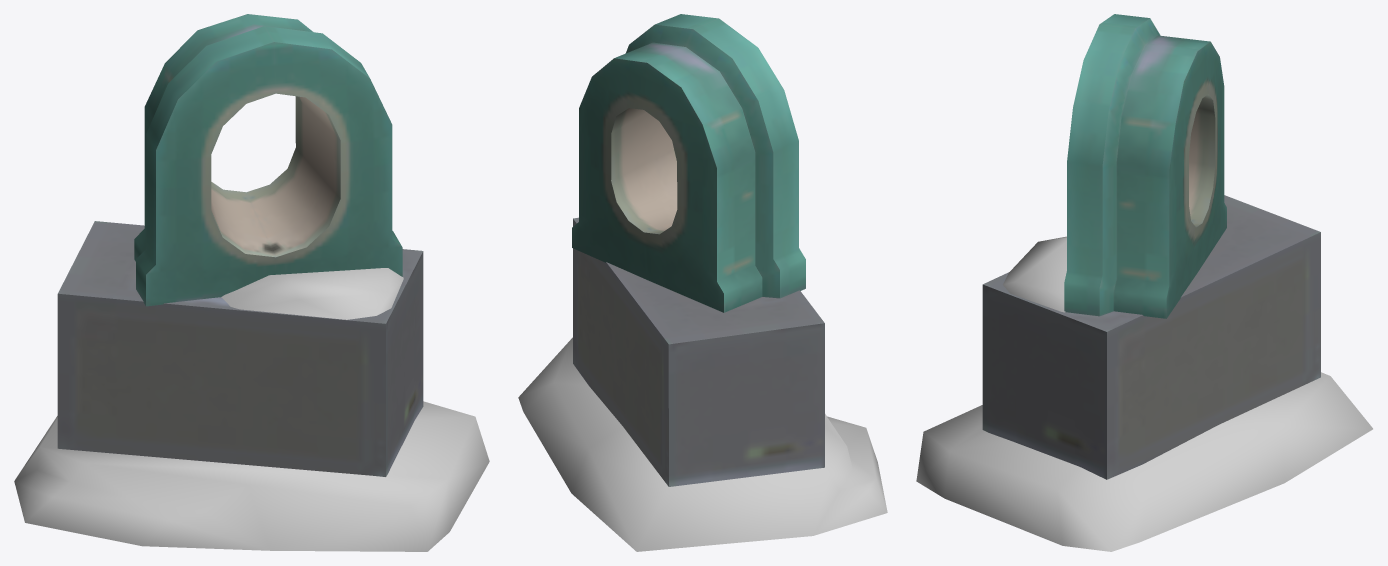
The model's file is pref_sm_city_bornbus03_snow_lv3.fbx.
The picture shows the model from 3 angles, left to right: view 1: azimuth 30°, elevation 25°; view 2: azimuth 150°, elevation 25°; view 3: azimuth 270°, elevation 25°; orthographic projection. The views are drawn at different scales.
Parts seen in each view (by area): view 1: sm_city_bornbus03_snow_lv3, sm_city_bornbus03b_snow_lv3; view 2: sm_city_bornbus03_snow_lv3, sm_city_bornbus03b_snow_lv3; view 3: sm_city_bornbus03_snow_lv3, sm_city_bornbus03b_snow_lv3.
Part boxes in pixels (x1,y1,x2,y2): sm_city_bornbus03_snow_lv3: [57, 14, 423, 476]; sm_city_bornbus03b_snow_lv3: [14, 268, 489, 551]; sm_city_bornbus03_snow_lv3: [572, 14, 824, 486]; sm_city_bornbus03b_snow_lv3: [518, 337, 887, 551]; sm_city_bornbus03_snow_lv3: [982, 14, 1320, 479]; sm_city_bornbus03b_snow_lv3: [916, 236, 1372, 551].
Size of the model in its own units: 2.11 by 2.15 by 2.07.
